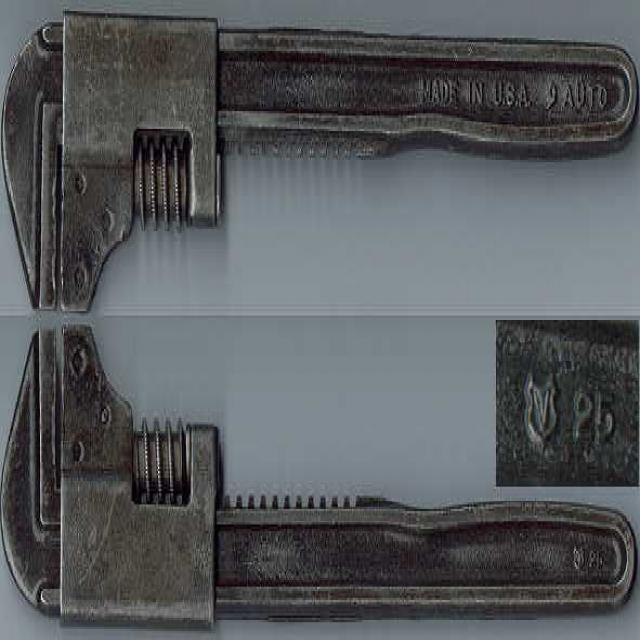wrench: (2, 9, 640, 318), (0, 327, 634, 629)
